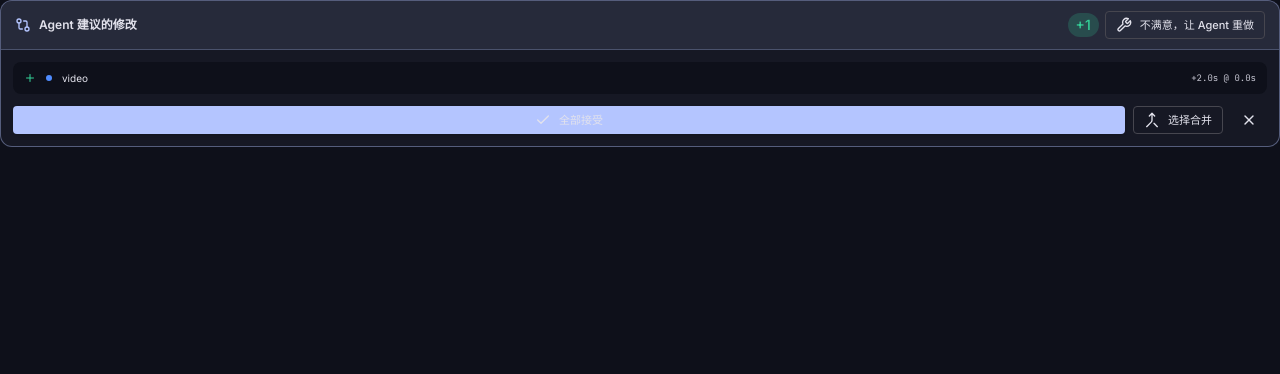
G10: diff review rework entry › edit 失败 → 显示错误且不关闭
Click the button "不满意，让 Agent 重做": (1185, 25) x1=1105 y1=11 x2=1265 y2=39
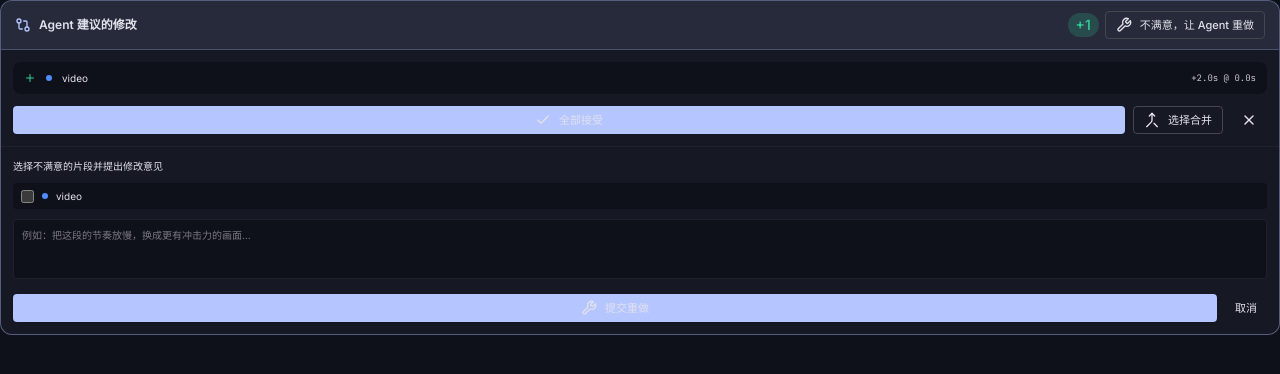
In the text box with placeholder "例如：把这段的节奏放慢，换成更有冲击力的画面…": (640, 249) x1=13 y1=219 x2=1267 y2=279, type "重做这段"
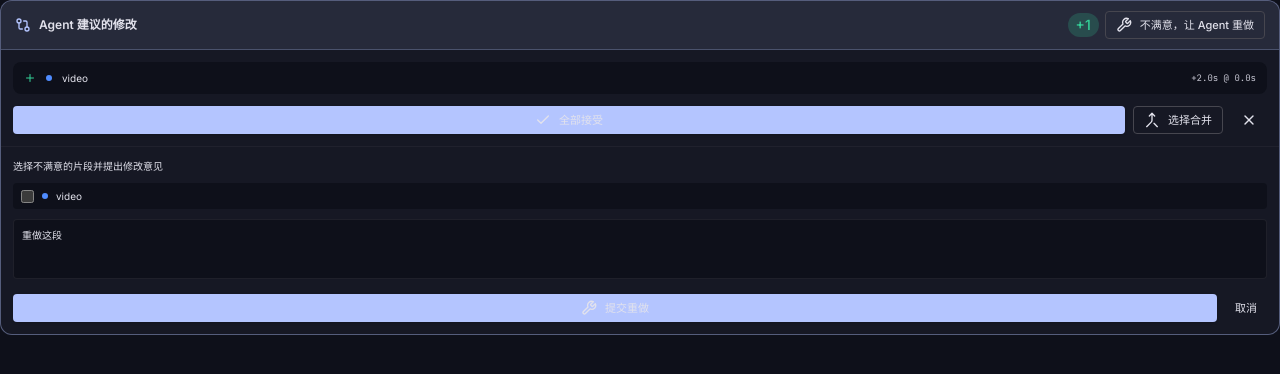
Click the button "提交重做": (615, 308) x1=13 y1=294 x2=1217 y2=322
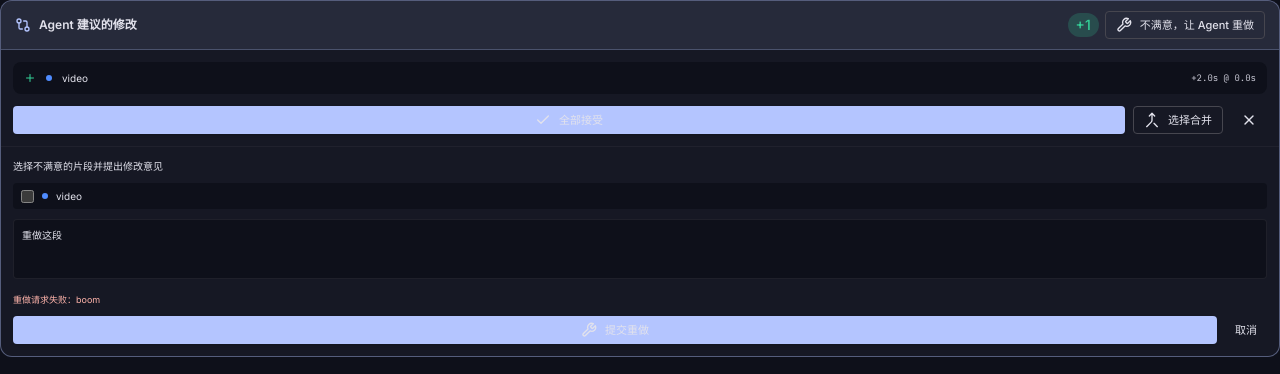
Now the text "重做请求失败：boom" is shown, box x1=13 y1=294 x2=100 y2=305
